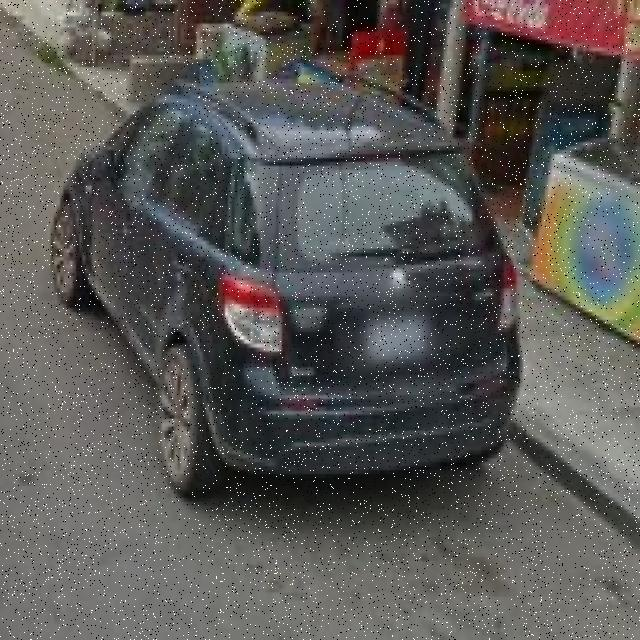cars: (53, 50, 519, 497)
